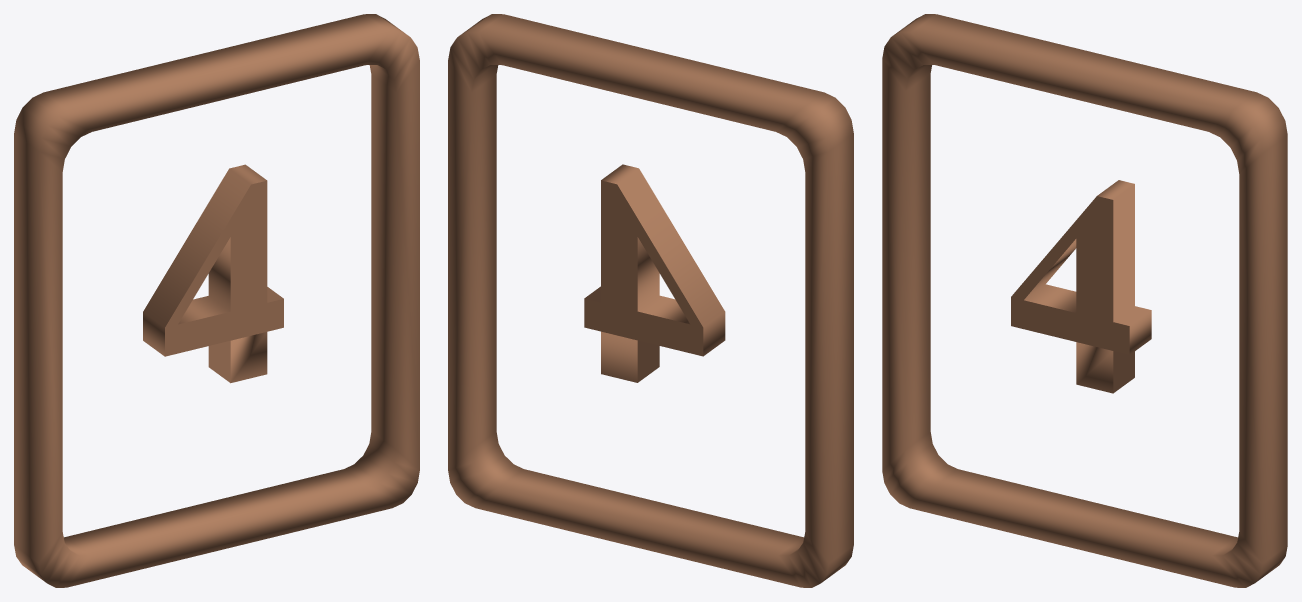
Rendered from Number_4.gltf.
3 renders of one model, left to right at view 1: azimuth 30°, elevation 25°; view 2: azimuth 150°, elevation 25°; view 3: azimuth 330°, elevation 25°, orthographic.
Parts seen in each view (by area): view 1: Numbers.005; view 2: Numbers.005; view 3: Numbers.005.
Part boxes in pixels (x1,y1,x2,y2): Numbers.005: (14,14,419,587); Numbers.005: (448,14,853,587); Numbers.005: (882,14,1287,587).
Bounding box in the file's own units: 1 × 1.2 × 0.1143.
